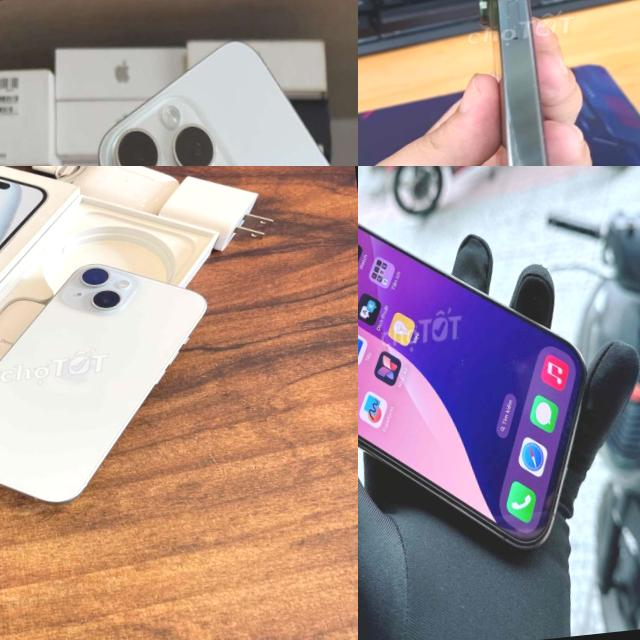scratch: (493, 0, 537, 62)
